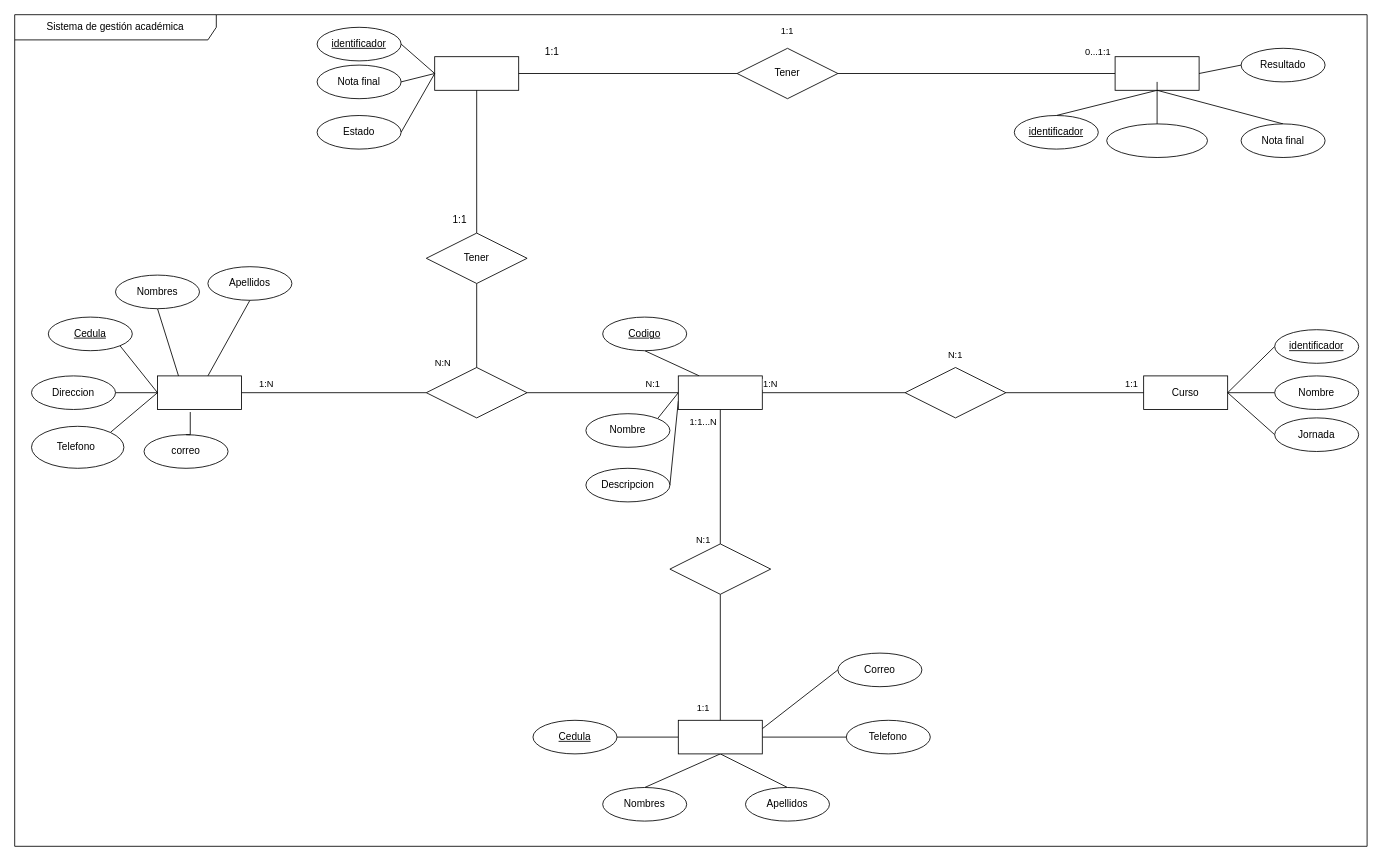
Some shapes in this 1382 by 861 pixel diagram are drawn without their labels. Here are the shapes that lost their labels. From the top down, the box of each, then its label:
(434, 56, 519, 90): Calificacion
(1114, 56, 1199, 90): Supletorio
(1106, 123, 1208, 158): nota de examen supletorio
(157, 375, 242, 410): Estudiante
(425, 367, 527, 418): Matricular
(677, 375, 762, 410): Materia
(904, 367, 1006, 418): Pertenecer
(669, 543, 771, 594): Impartir
(677, 719, 762, 754): Docente
